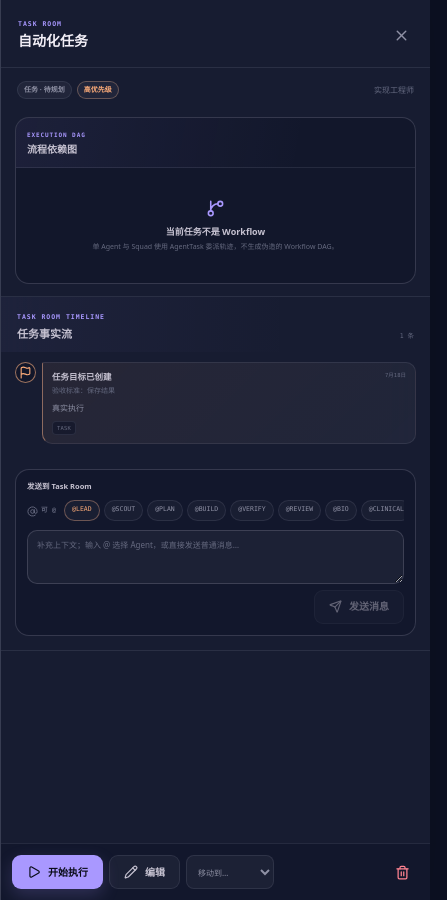
Test: Kanban automation interactions › supports keyboard selection and prevents mixing LEAD with direct Worker mentions
The image size is (447, 900).
In the text box with placeholder "补充上下文；输入 @ 选择 Agent，或直接发送普通消息…": x=216, y=557 [27,530,404,584], type "@str"
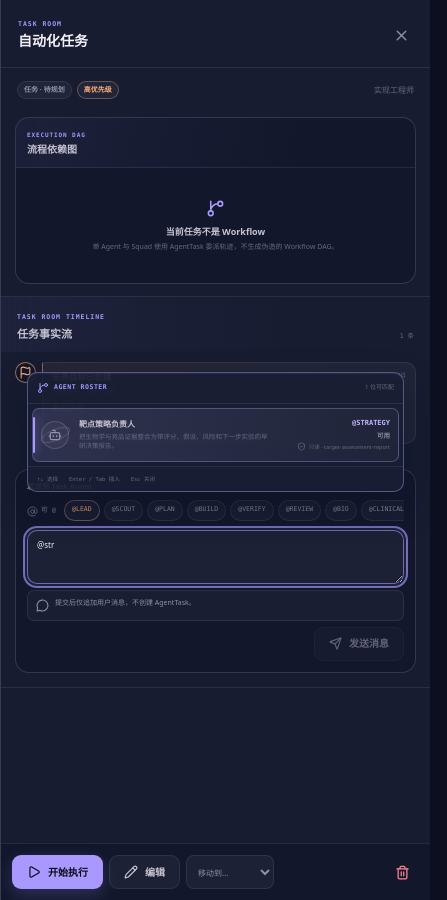
Press Enter
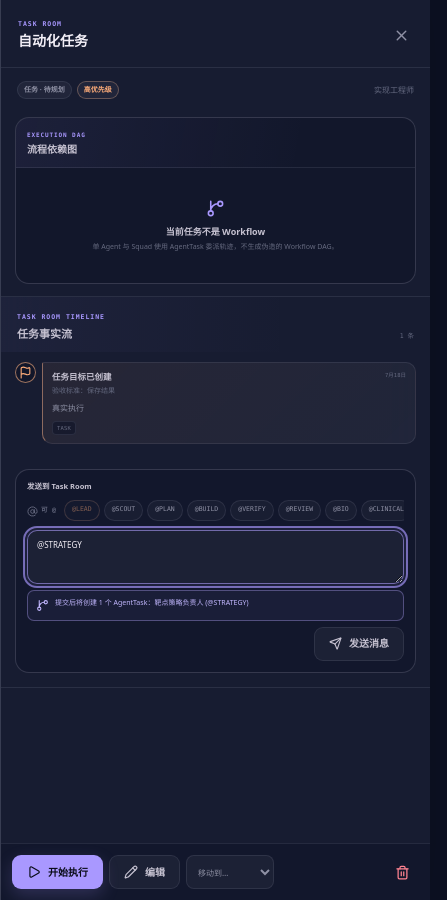
Result: the text box with placeholder "补充上下文；输入 @ 选择 Agent，或直接发送普通消息…" holds "@STRATEGY " at [27,530,404,584]
Result: the button with aria-label "@ 通用调度负责人" is disabled at [64,500,100,521]
